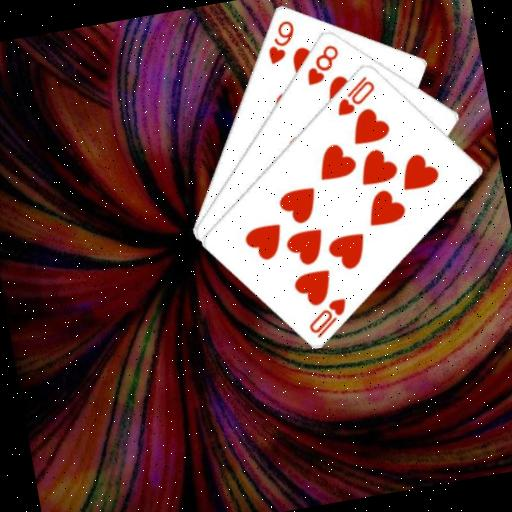10H: (328, 71, 380, 118), (301, 293, 353, 340)
8H: (298, 39, 345, 87)
9H: (259, 15, 301, 66)
